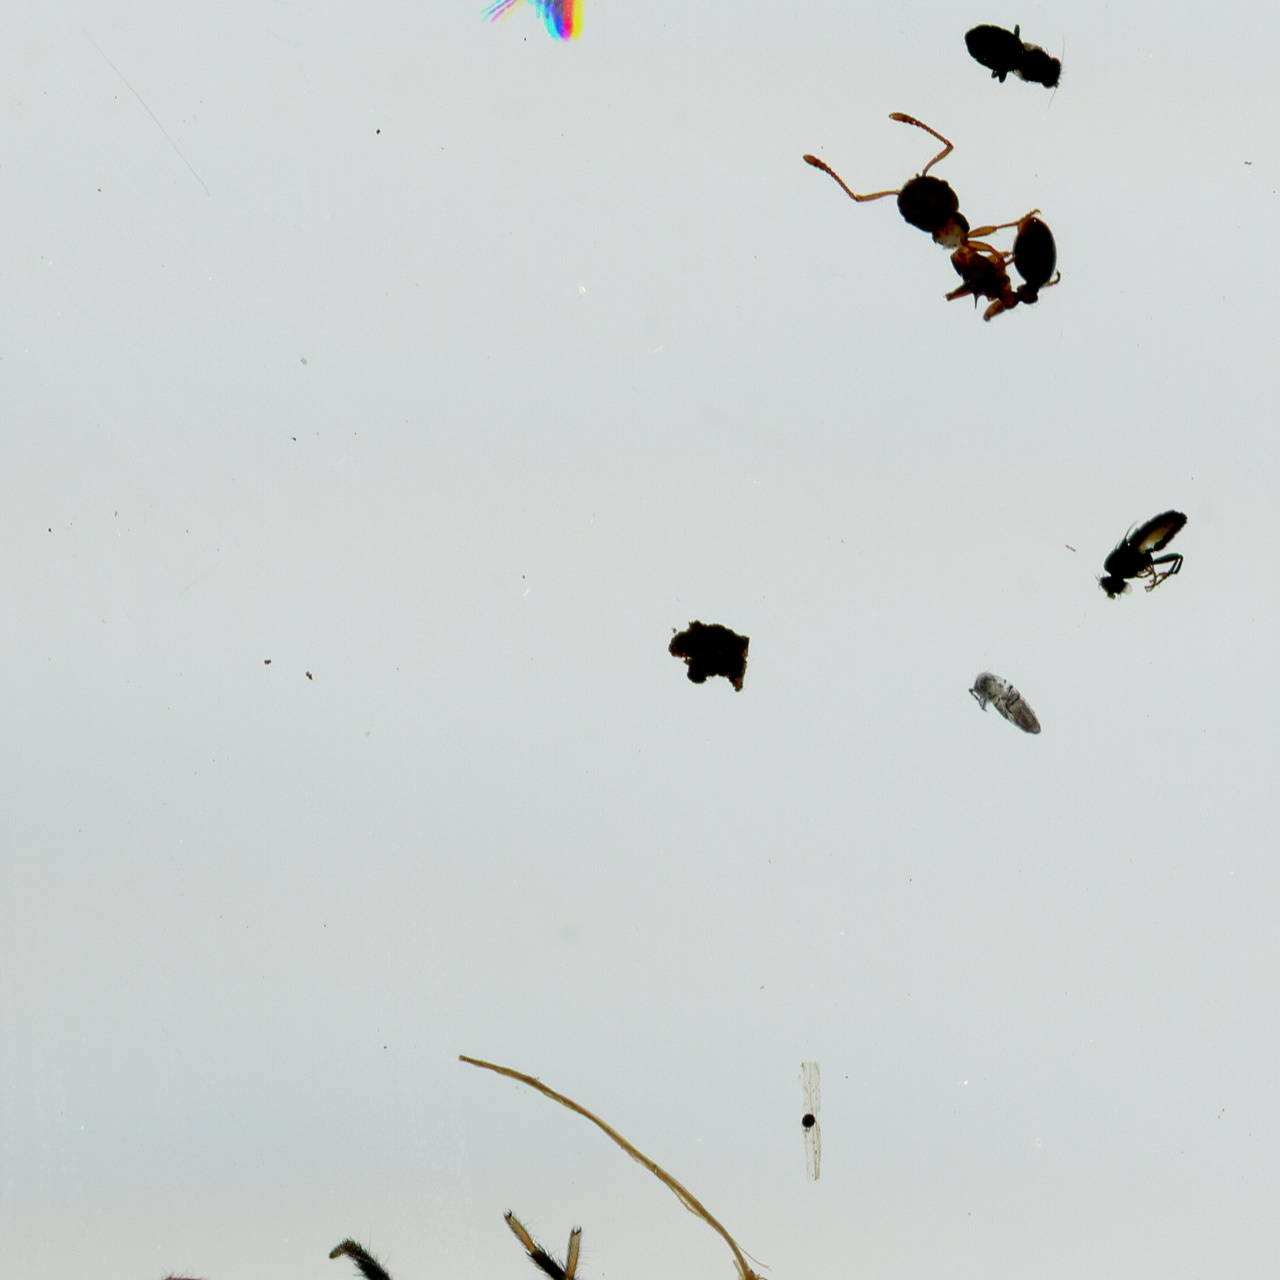arthropod: (799, 104, 1067, 326), (100, 1198, 594, 1280), (1075, 482, 1219, 634), (949, 647, 1062, 761), (959, 14, 1078, 121), (478, 0, 591, 47)
